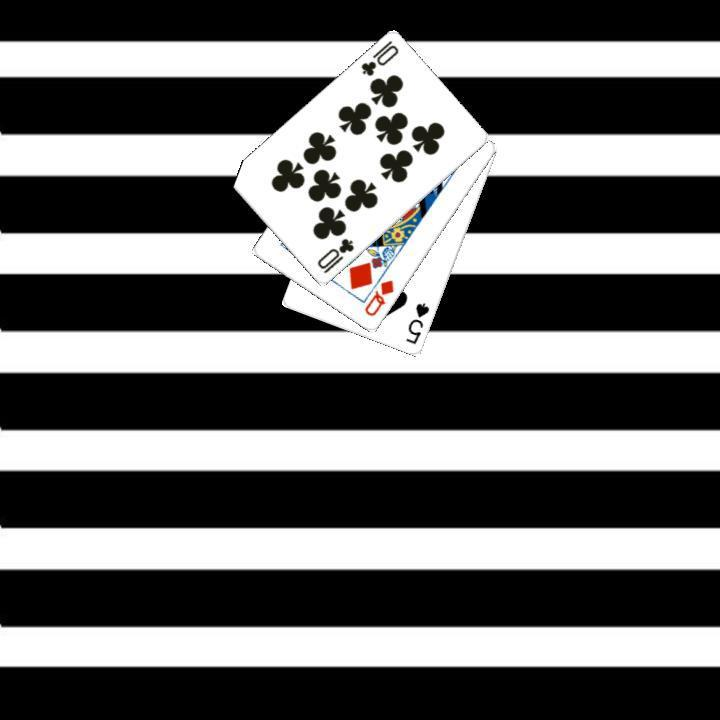10: (356, 36, 401, 79), (312, 234, 356, 276)
5: (401, 299, 432, 347)
Q: (360, 276, 396, 319)
